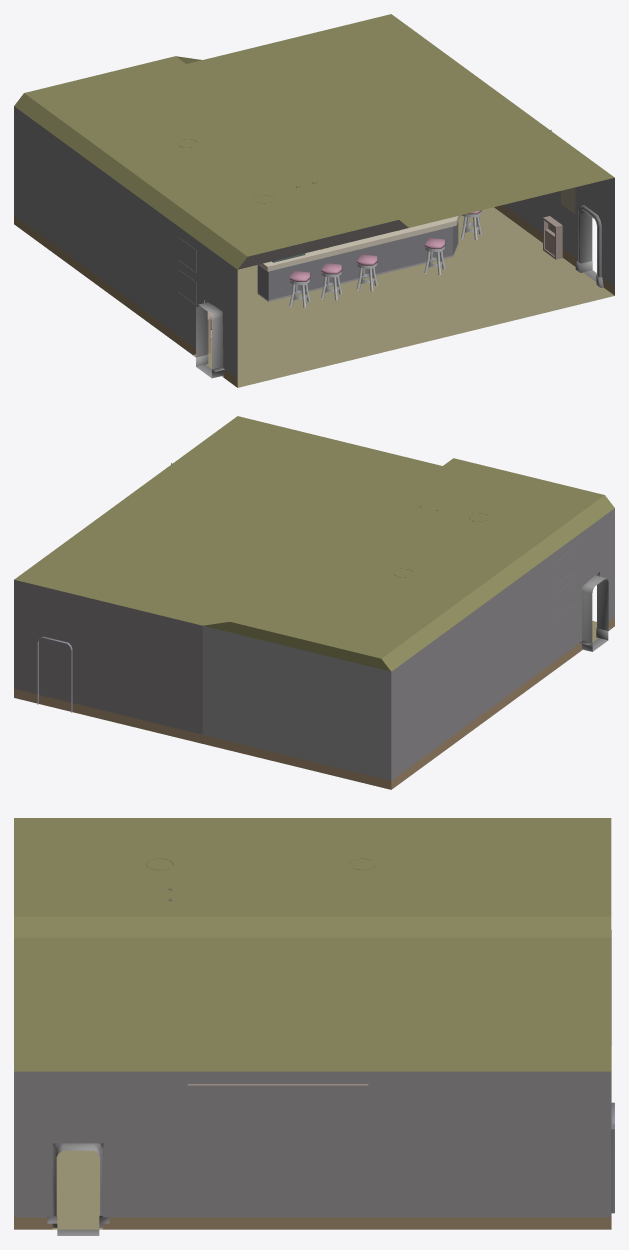
Rendered from Room2.dae.
The picture shows the model from 3 angles, top to bottom: view 1: azimuth 30°, elevation 25°; view 2: azimuth 150°, elevation 25°; view 3: azimuth 270°, elevation 25°; orthographic projection. The views are drawn at different scales.
Parts seen in each view (by area): view 1: SubMesh_52; view 2: SubMesh_52; view 3: SubMesh_52.
Boxes of the visible parts, <box> form: SubMesh_52: <box>14,14,614,387</box>; SubMesh_52: <box>14,416,614,789</box>; SubMesh_52: <box>14,818,614,1235</box>.
Bounding box in the file's own units: 20.61 × 20.24 × 6.42.
